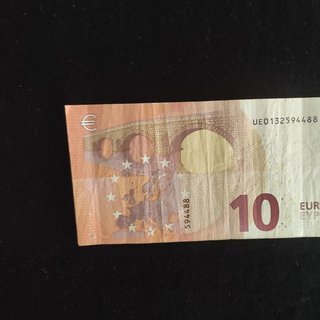10EUROBack: (64, 96, 320, 246)
